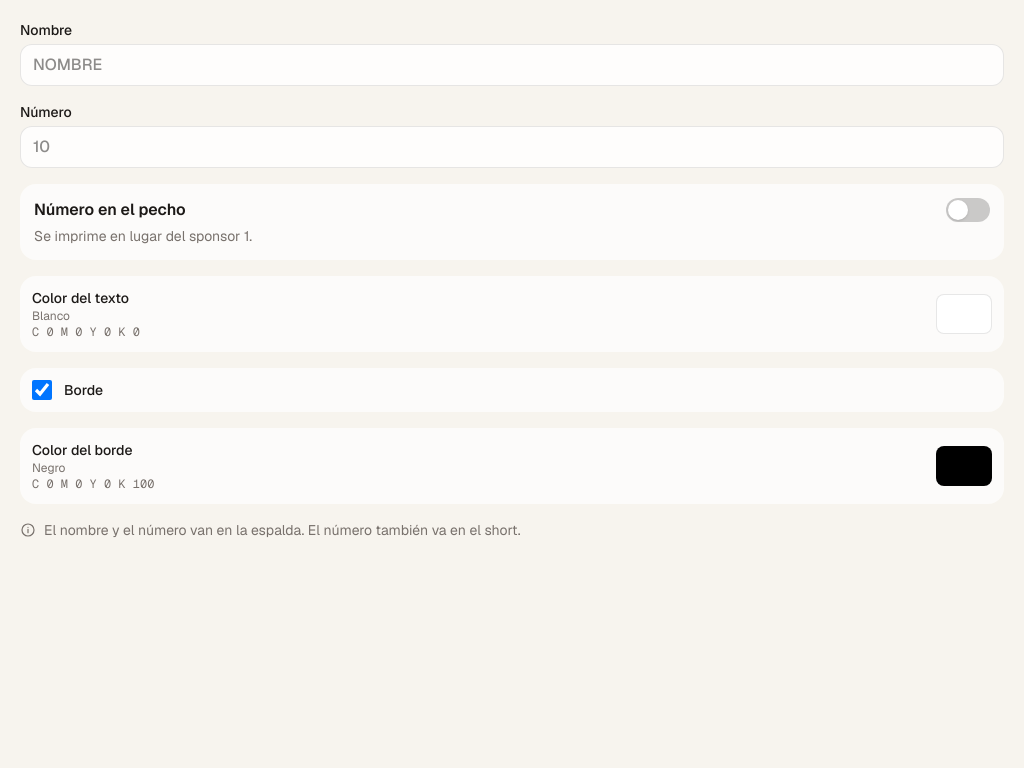
TextPanel › opens the text color and the border color one at a time
Click the button with aria-label "Color del texto:" at (80, 298), box [20,276,1004,352]
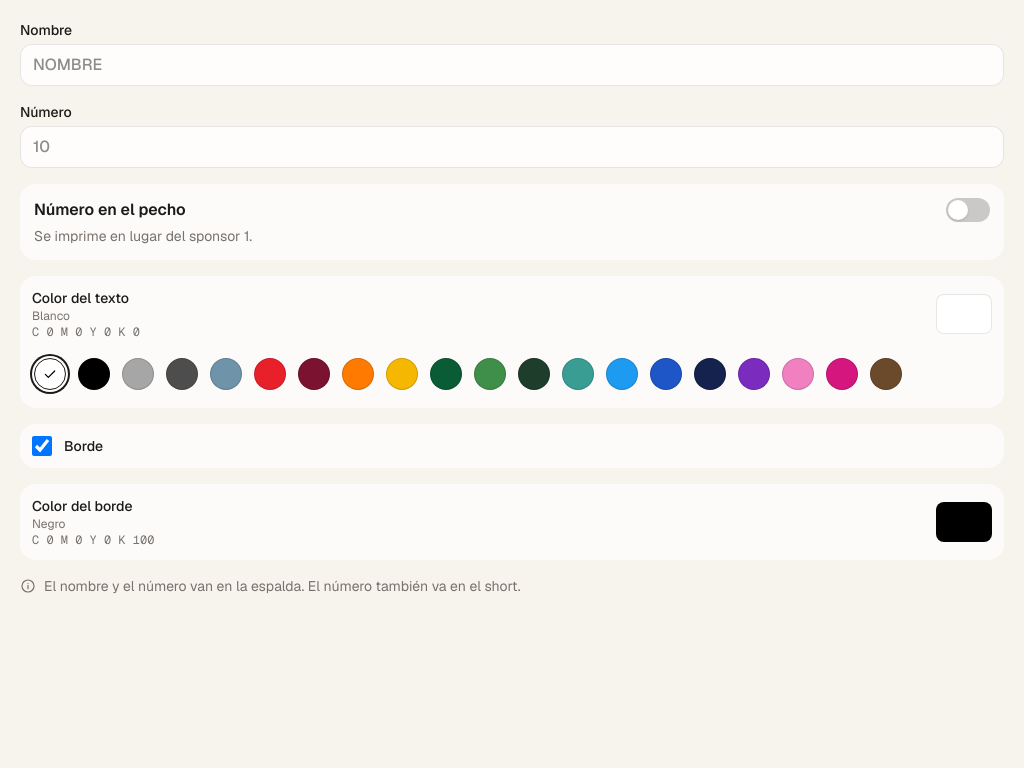
Now the element named "Color del texto" is shown, box [20,352,1004,408]
Click the button with aria-label "Color del borde:" at (82, 506), box [20,484,1004,560]
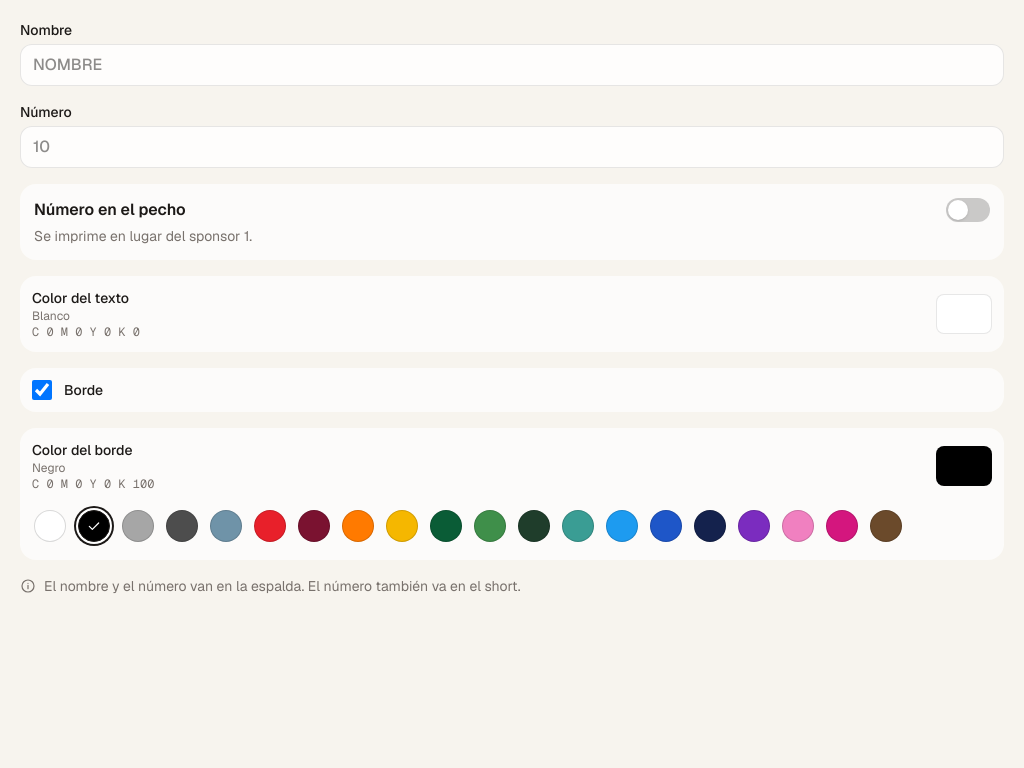
Now the element named "Color del borde" is shown, box [20,504,1004,560]
